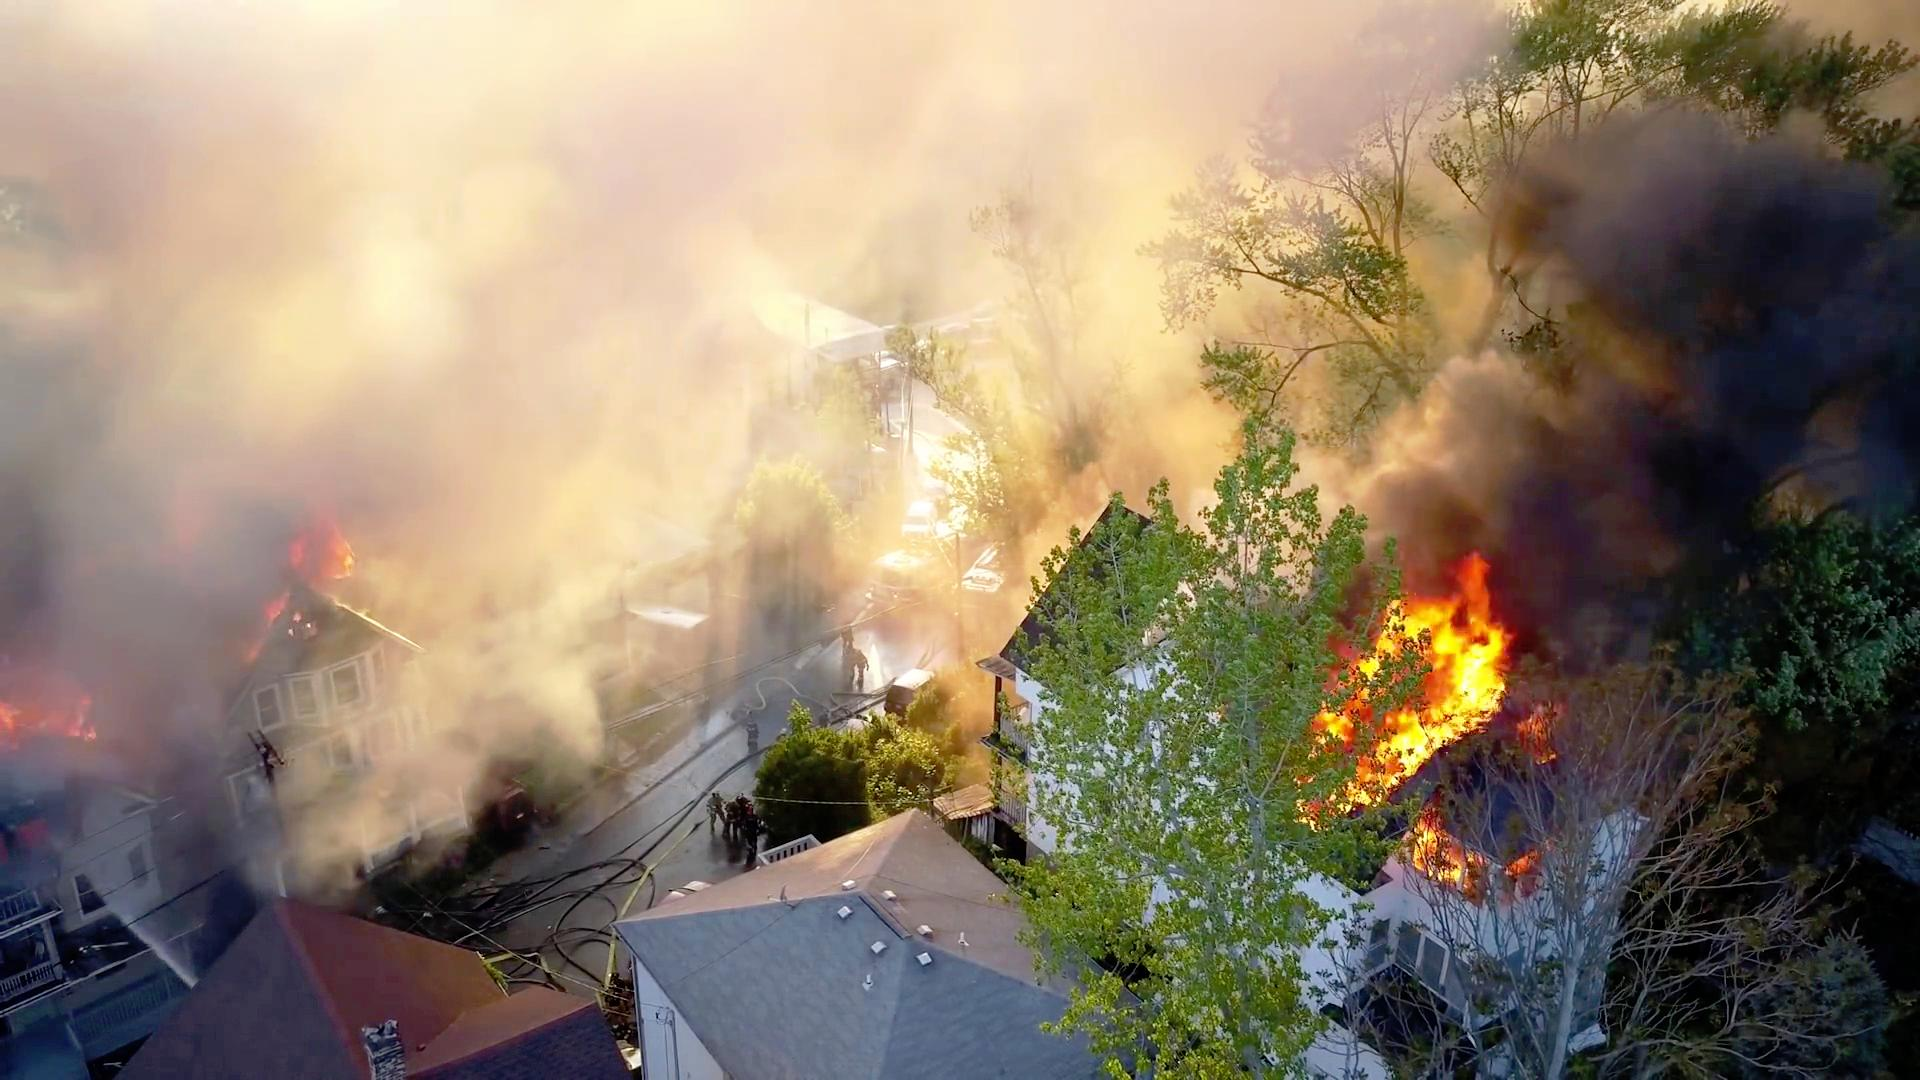fire: (1317, 566, 1510, 781)
smoke: (1509, 133, 1920, 579)
